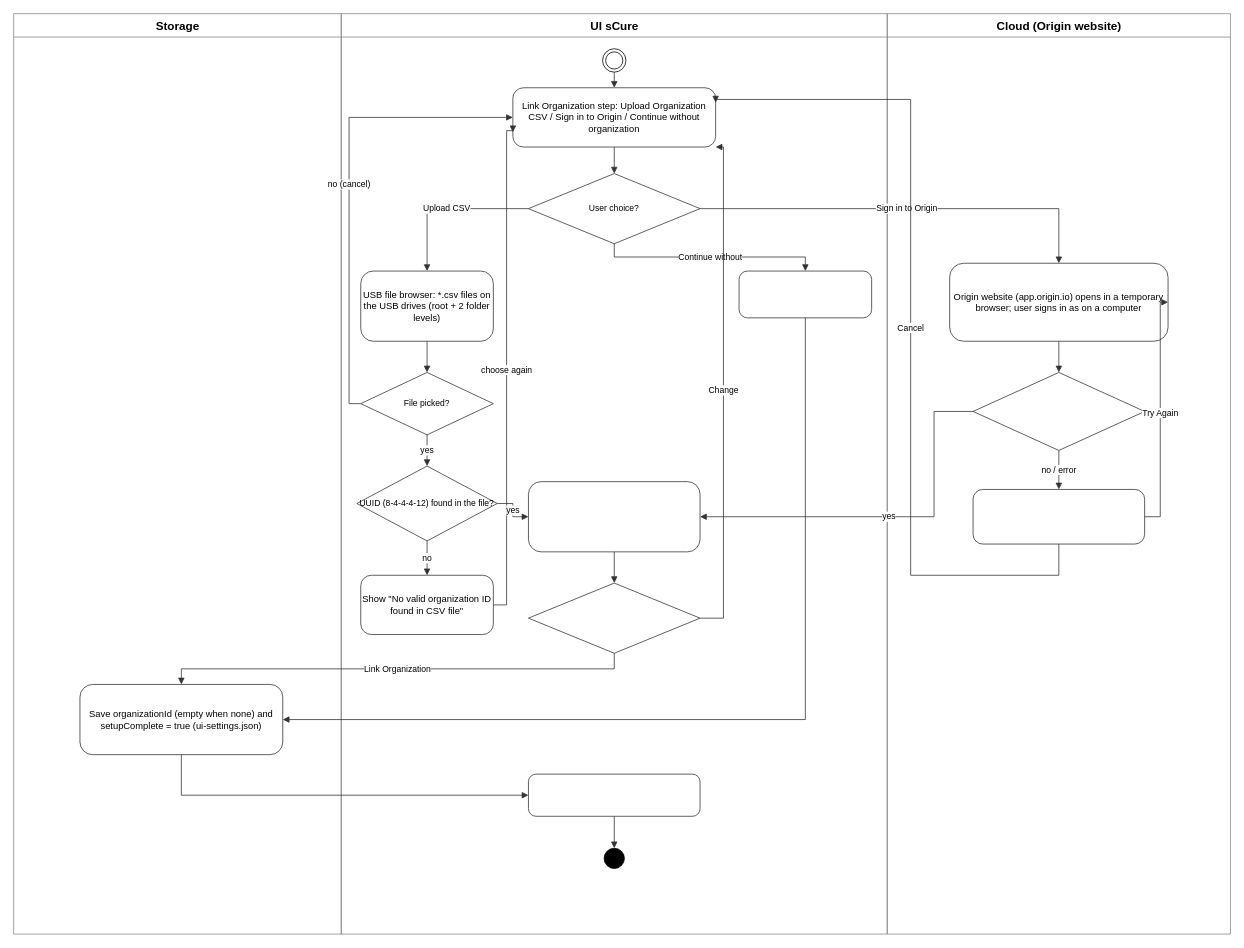
Some shapes in this 1244 by 948 pixel diagram are drawn without their labels. The centre of each missing label's shape, as x and y in pixels:
Home screen (§6): point (614, 794)
Link Organization or Change?: point (614, 617)
No organization (organizationId empty): point (805, 294)
Organization Found: ID + source ("from <file>" / "from Origin account <email>"): point (614, 516)
organizationId read before the time-out (default 300 s)?: point (1058, 411)
Show the error: Try Again / Cancel: point (1058, 516)
